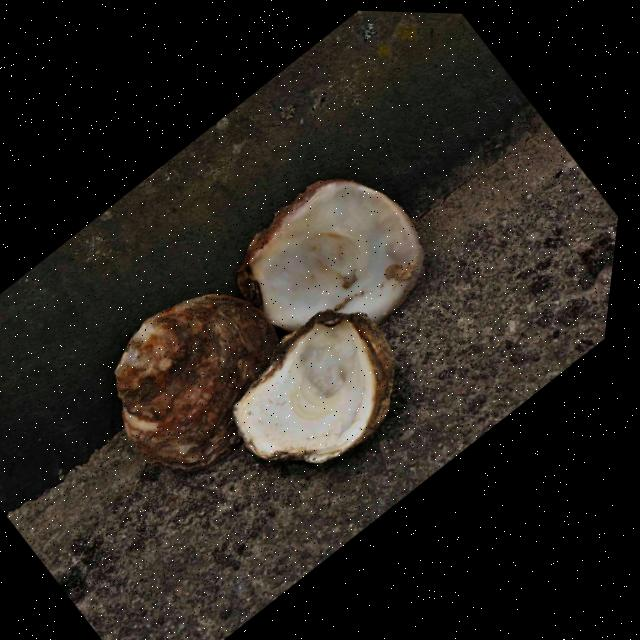Oyster-Indeterminate: (66, 256, 330, 500)
Oyster-Open: (202, 143, 462, 383), (198, 283, 438, 504)
